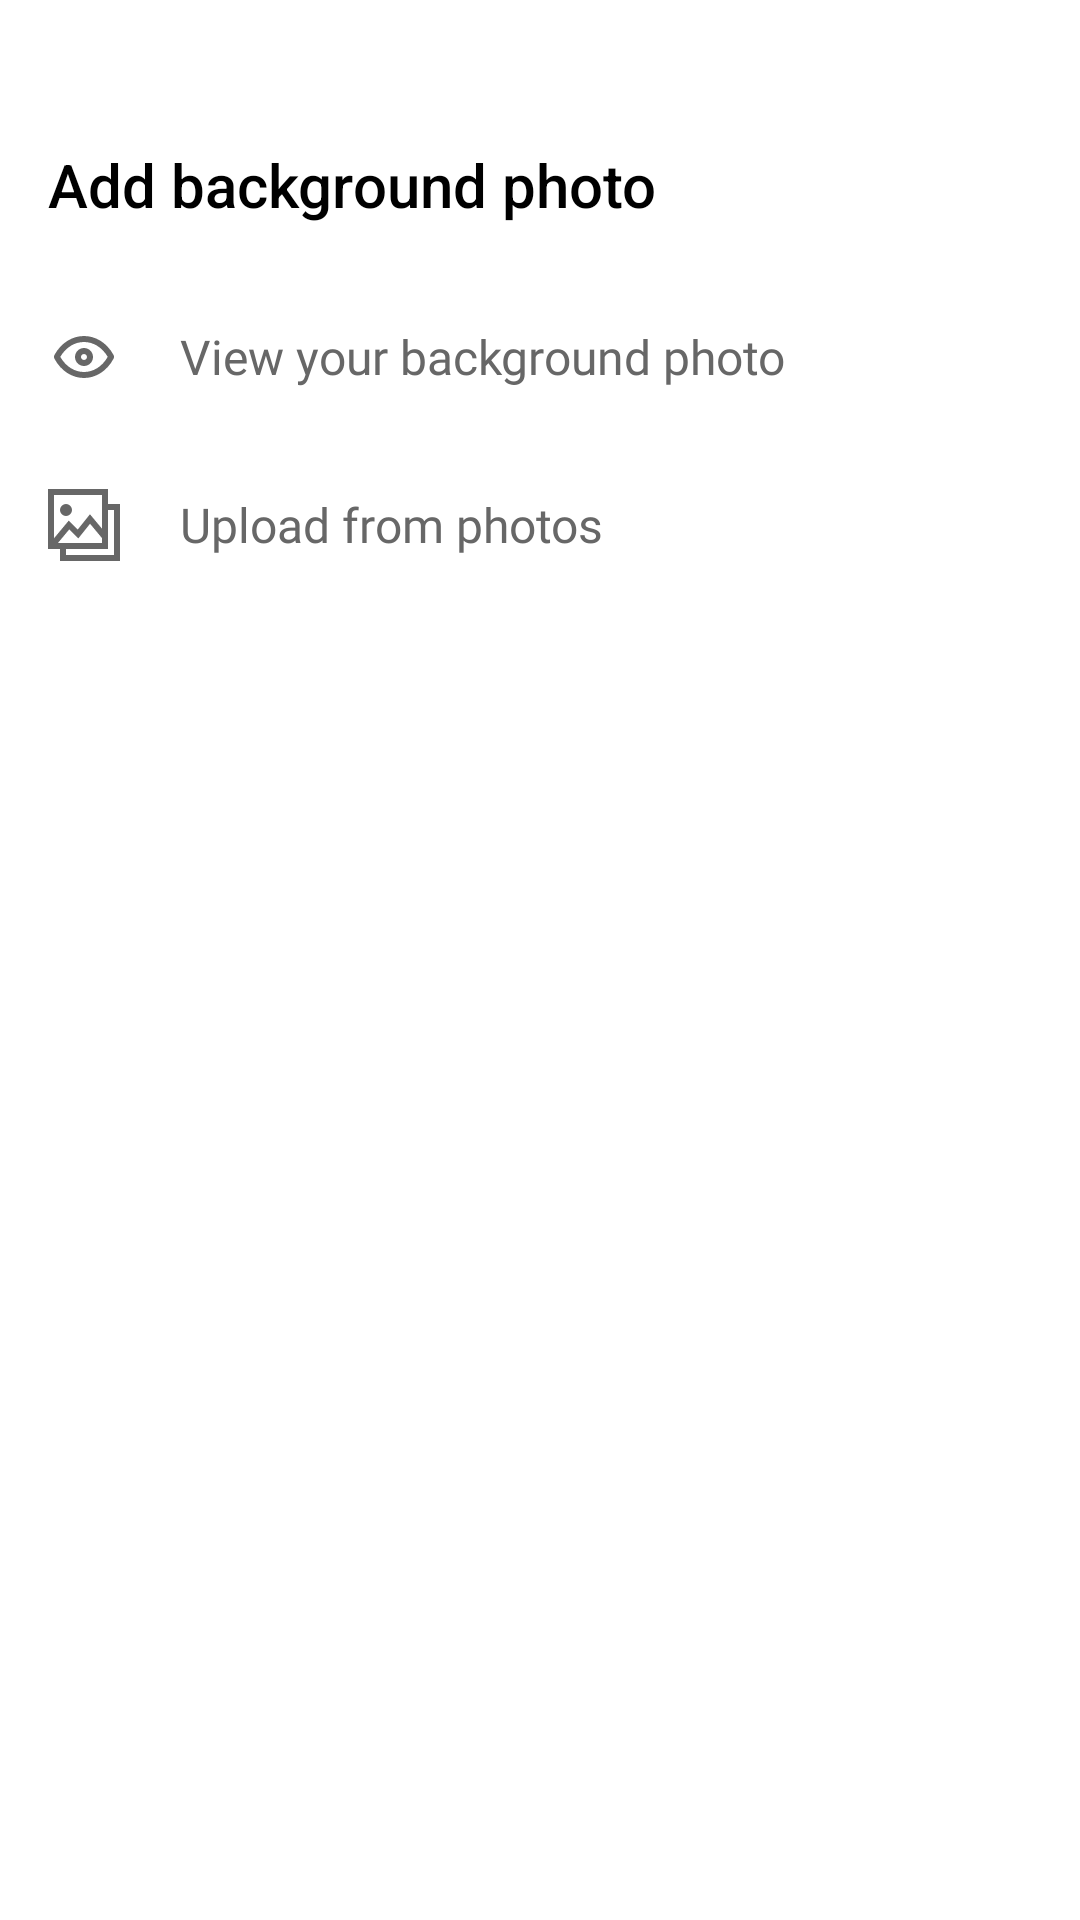

Where icons sit on this 1080×1920 app screen, as (x1, y1, x2, y2):
gallery: (48, 489, 120, 561)
